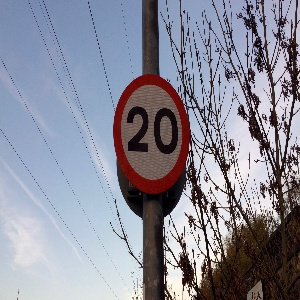20 speed: (113, 74, 191, 195)
